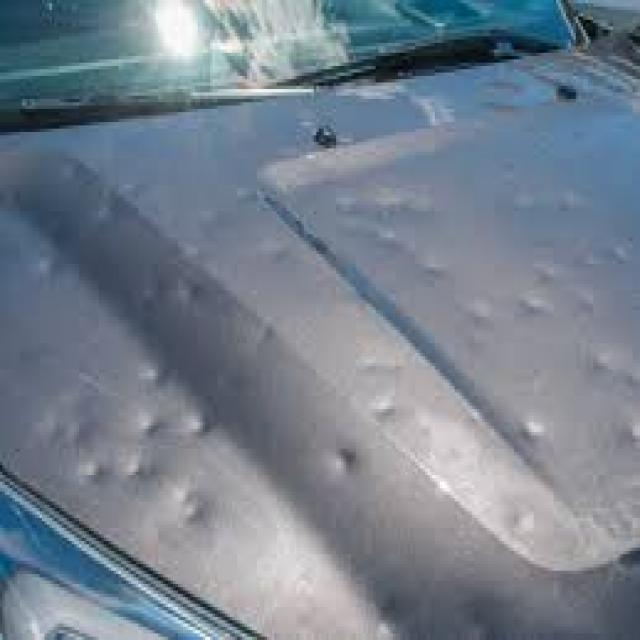dent-or-scratch: (8, 111, 640, 640)
